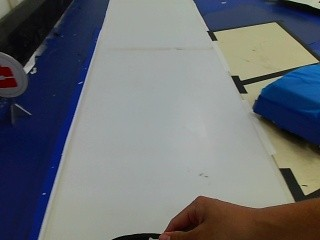car: (256, 64, 318, 155)
company: (0, 53, 20, 101)
